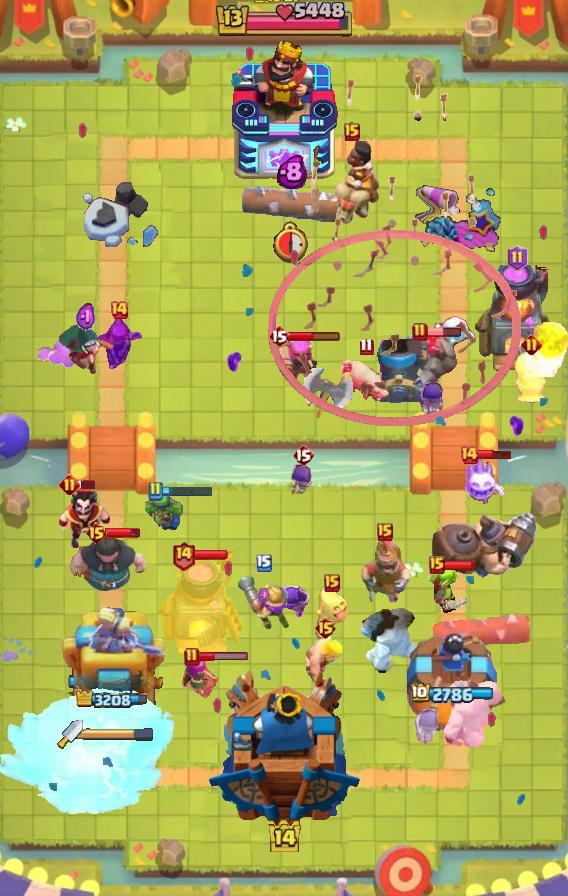archer: (180, 661, 228, 701)
archer-evolution: (94, 312, 144, 372)
axe: (302, 368, 354, 420)
bandit: (56, 324, 116, 376)
bar: (161, 485, 214, 497), (288, 330, 341, 342), (198, 651, 249, 662), (193, 549, 229, 561), (105, 527, 141, 539), (426, 326, 462, 338), (477, 449, 513, 460), (443, 560, 477, 571), (77, 479, 97, 490)
bar-level: (171, 540, 196, 571), (314, 616, 337, 640), (85, 521, 108, 545), (507, 245, 528, 271), (292, 443, 314, 467), (268, 324, 290, 348), (59, 474, 80, 495), (521, 334, 542, 355), (459, 445, 479, 465), (109, 300, 129, 320), (184, 647, 200, 667), (147, 481, 163, 501), (412, 322, 428, 342), (324, 574, 340, 592), (429, 556, 445, 574), (256, 554, 272, 572), (377, 523, 393, 541), (344, 123, 360, 141), (359, 337, 374, 356)
barbarian: (304, 628, 346, 684)
clock: (273, 220, 312, 263)
dagger-duchess-tower: (60, 607, 168, 731)
dagger-duchess-tower-bar: (83, 727, 155, 741)
electro-wizard: (57, 488, 113, 552)
elixir: (277, 154, 307, 189), (76, 302, 96, 333), (257, 587, 271, 604)
firecracker: (272, 332, 317, 382)
goblin: (425, 561, 469, 616)
golemite: (399, 330, 463, 398)
heal-spirit: (315, 584, 349, 628)
hog: (340, 354, 392, 404)
ice-spirit: (433, 314, 479, 350)
ice-spirit-evolution: (459, 458, 507, 506)
king-tower: (207, 669, 362, 826), (230, 41, 338, 181)
king-tower-bar: (213, 2, 355, 40)
mortar: (369, 339, 429, 403)
musketeer: (238, 573, 290, 631)
queen-tower: (407, 633, 499, 731)
ram-rider: (324, 140, 380, 228)
royal-hog: (513, 347, 549, 407)
royal-recruit: (359, 533, 411, 603)
skeleton-evolution: (288, 463, 318, 503), (413, 709, 444, 747), (417, 381, 447, 419), (280, 586, 311, 622)
spear-goblin: (145, 492, 187, 532)
the-log: (432, 612, 532, 650), (241, 186, 343, 222)
tower-bar: (411, 683, 496, 705), (76, 690, 153, 711)
